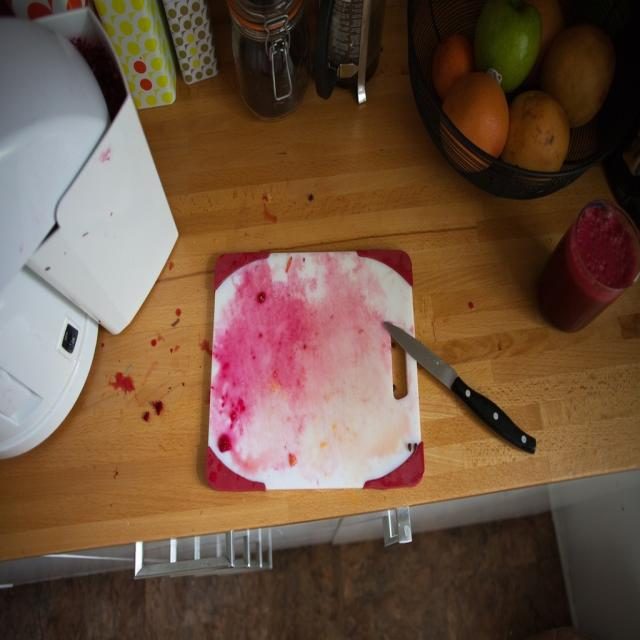Healty Apple: (482, 5, 553, 80)
